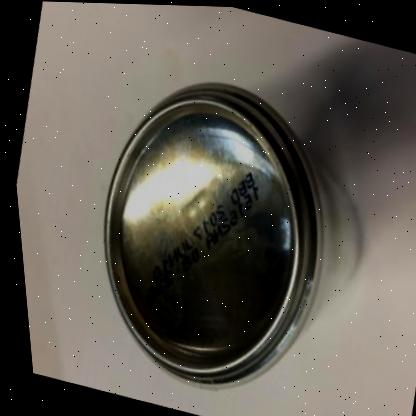Metal: (100, 83, 357, 387)
